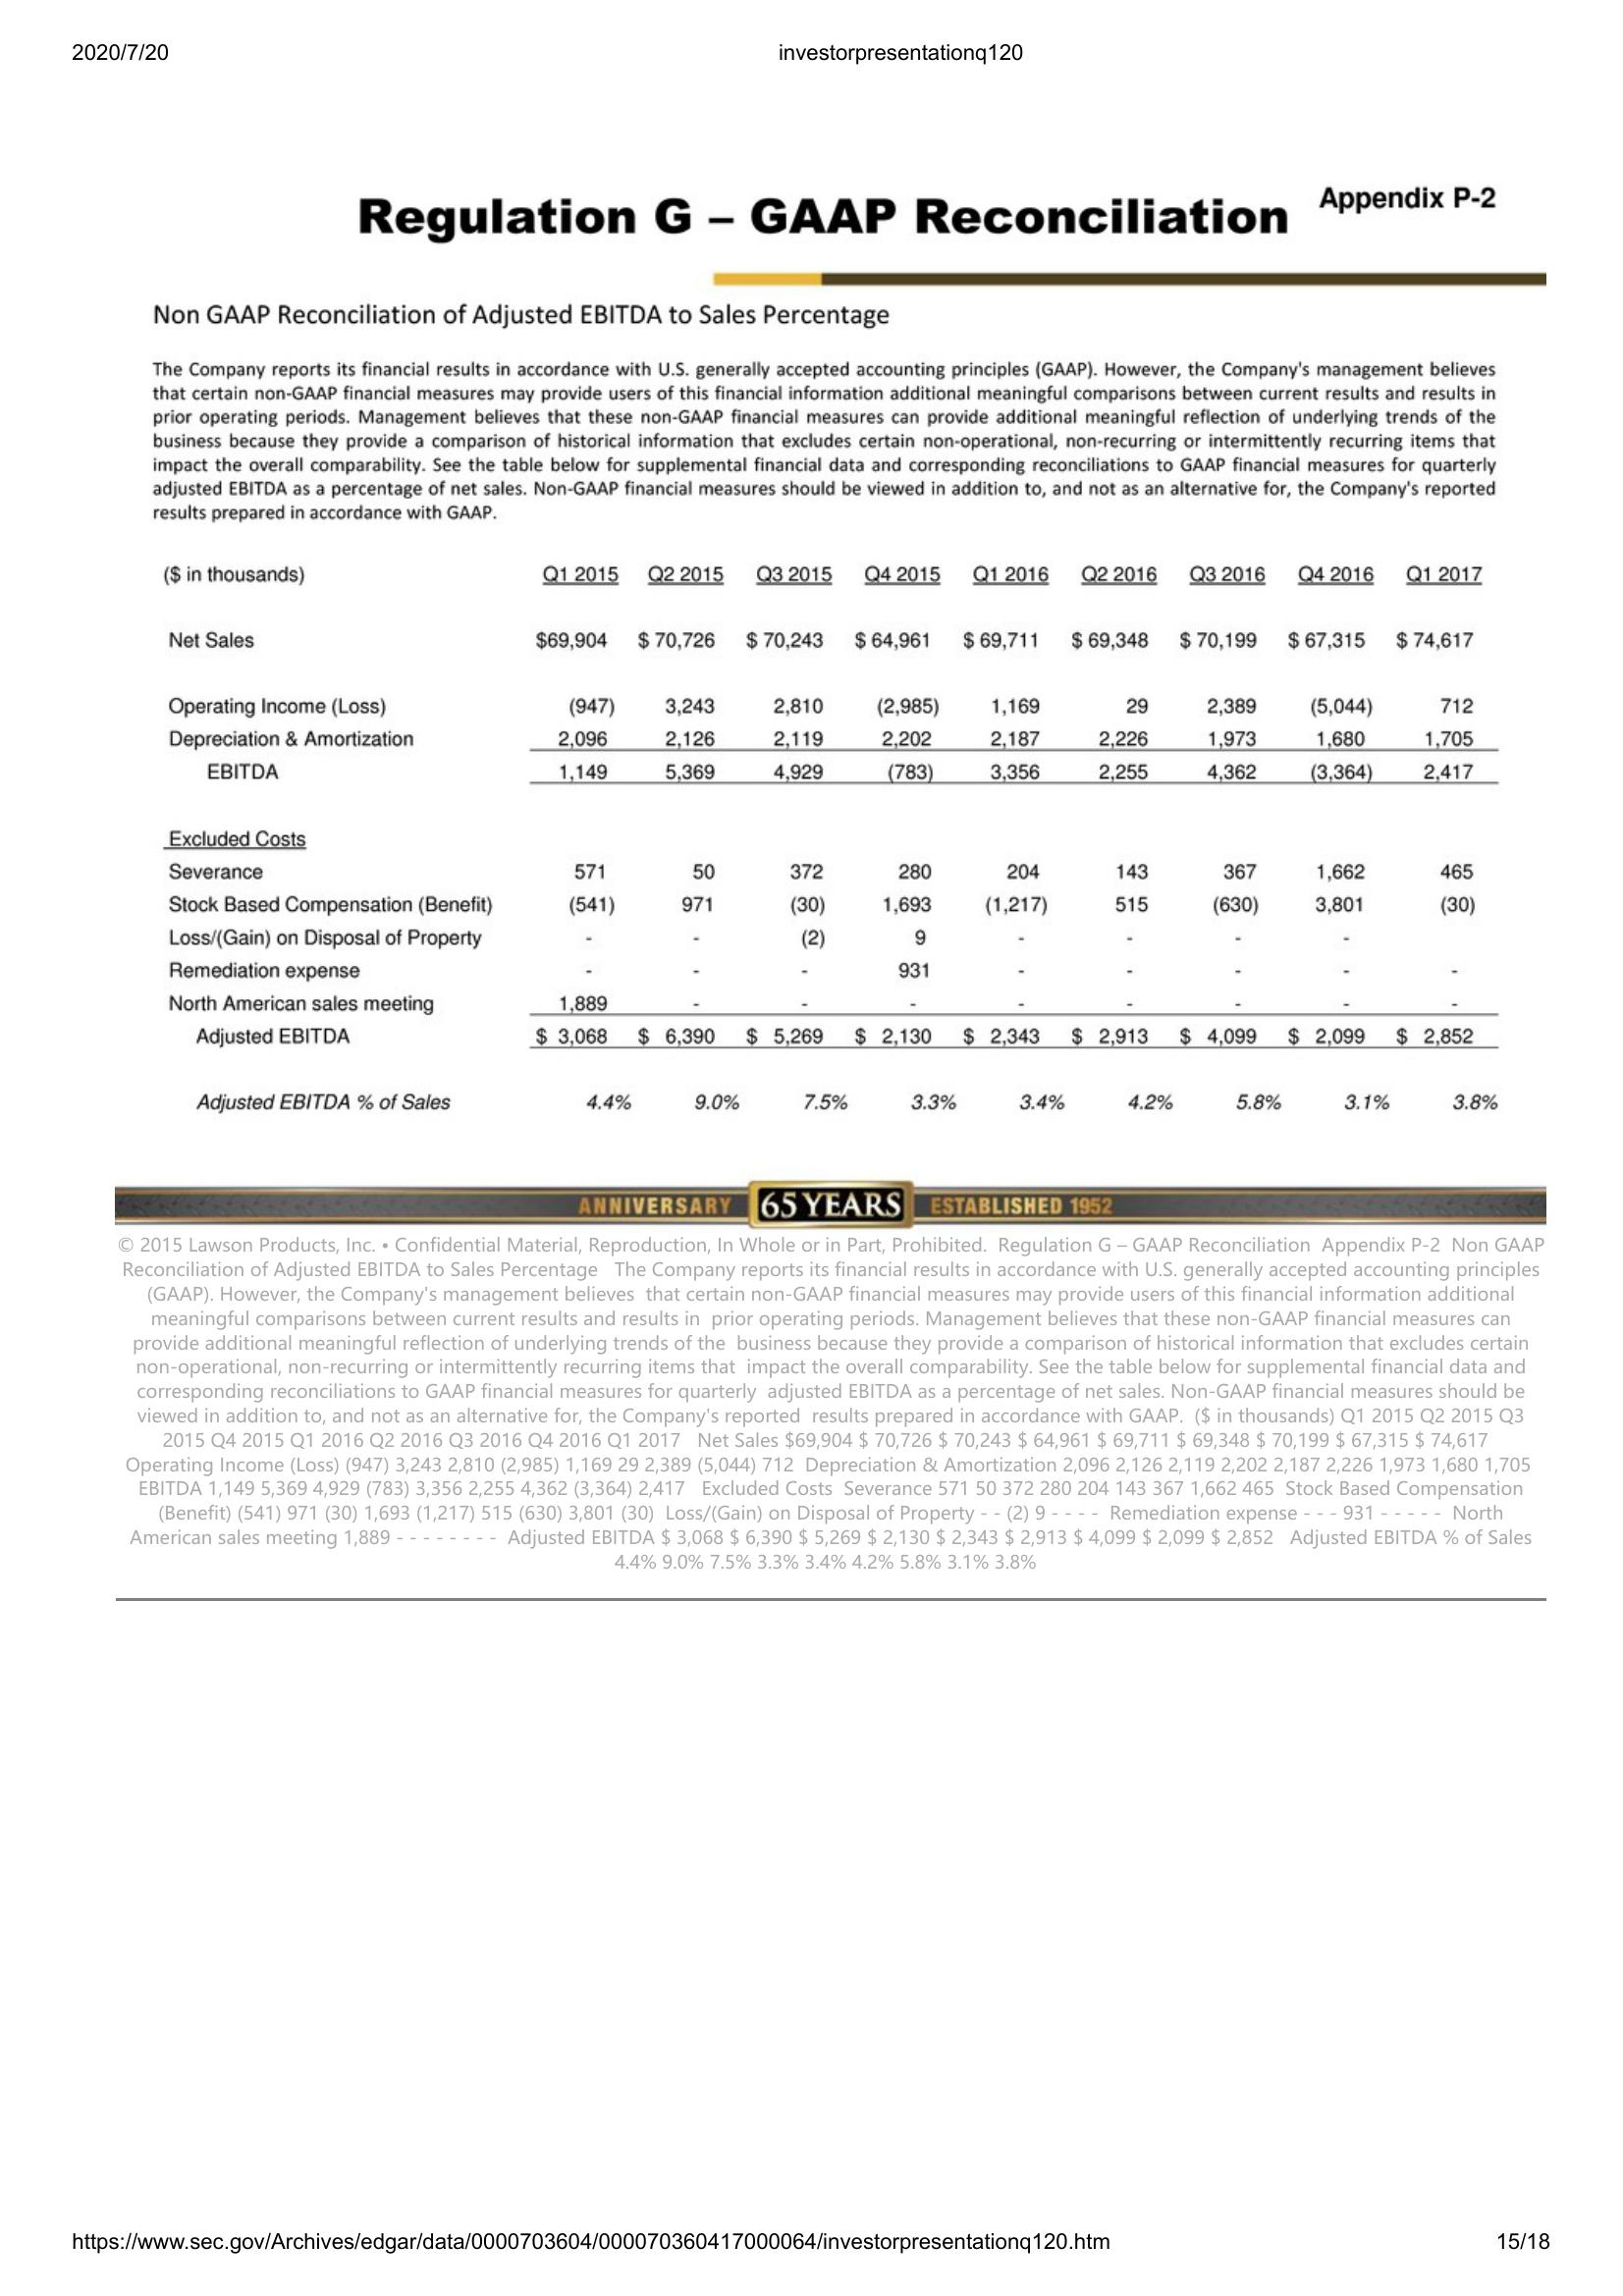table: (155, 549, 1514, 1120)
